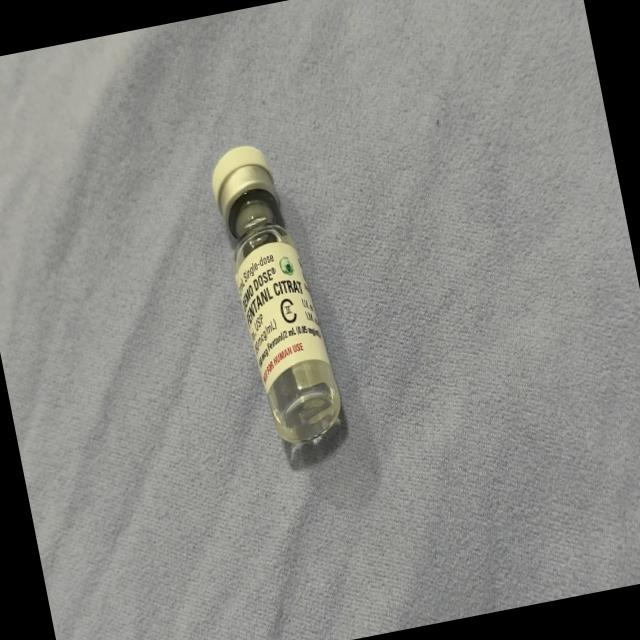fentanl_citrat: (208, 142, 346, 449)
